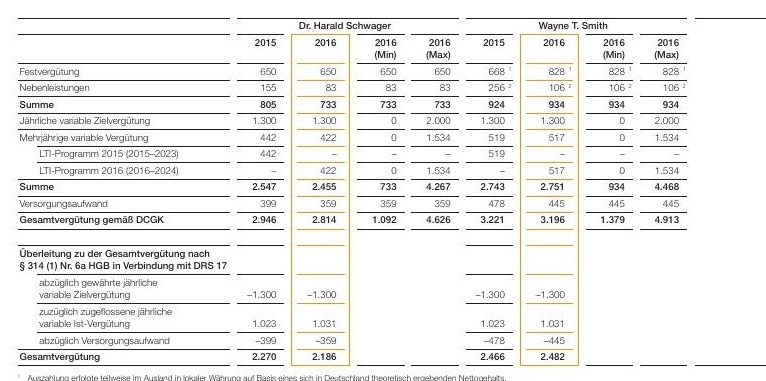table: (0, 0, 766, 381)
